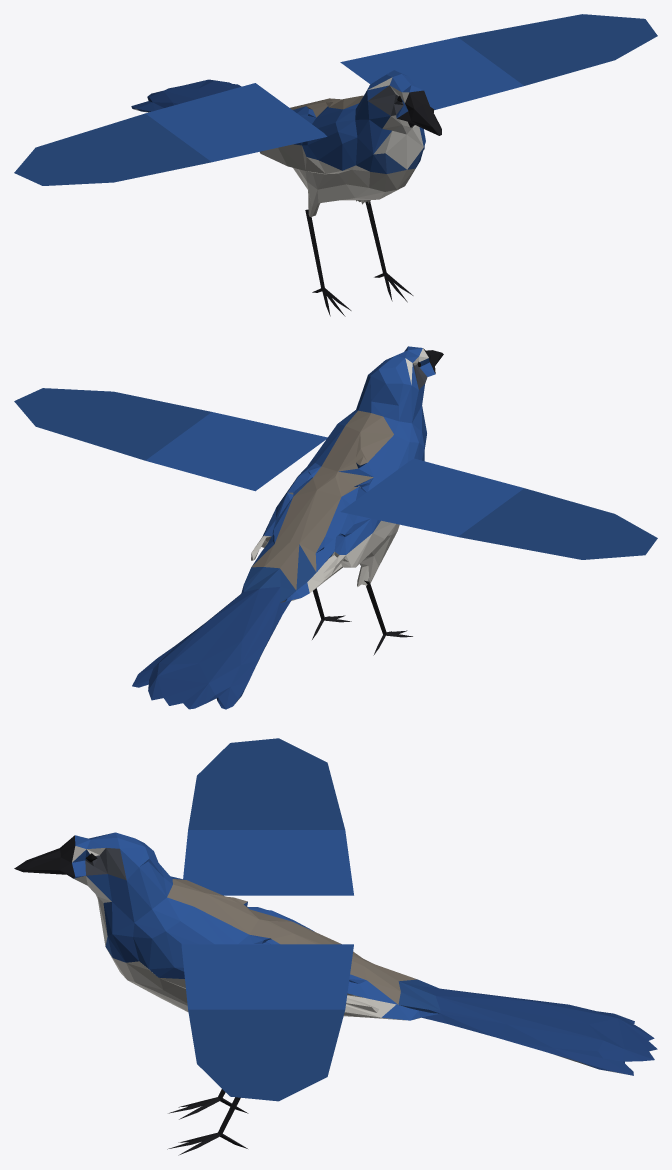
File: scrubjay.glb
3 views of the same model, one above another, from view 1: azimuth 30°, elevation 25°; view 2: azimuth 150°, elevation 25°; view 3: azimuth 270°, elevation 25° (orthographic). The views are drawn at different scales.
Visible parts, largest first — view 1: lod0; view 2: lod0; view 3: lod0.
Part boxes in pixels (left/top/right/bottom): lod0: left=14, top=14, right=657, bottom=316; lod0: left=14, top=346, right=657, bottom=709; lod0: left=14, top=738, right=657, bottom=1155.
Size of what is drawn, in the model's own units: 0.388 by 0.1473 by 0.2908.
